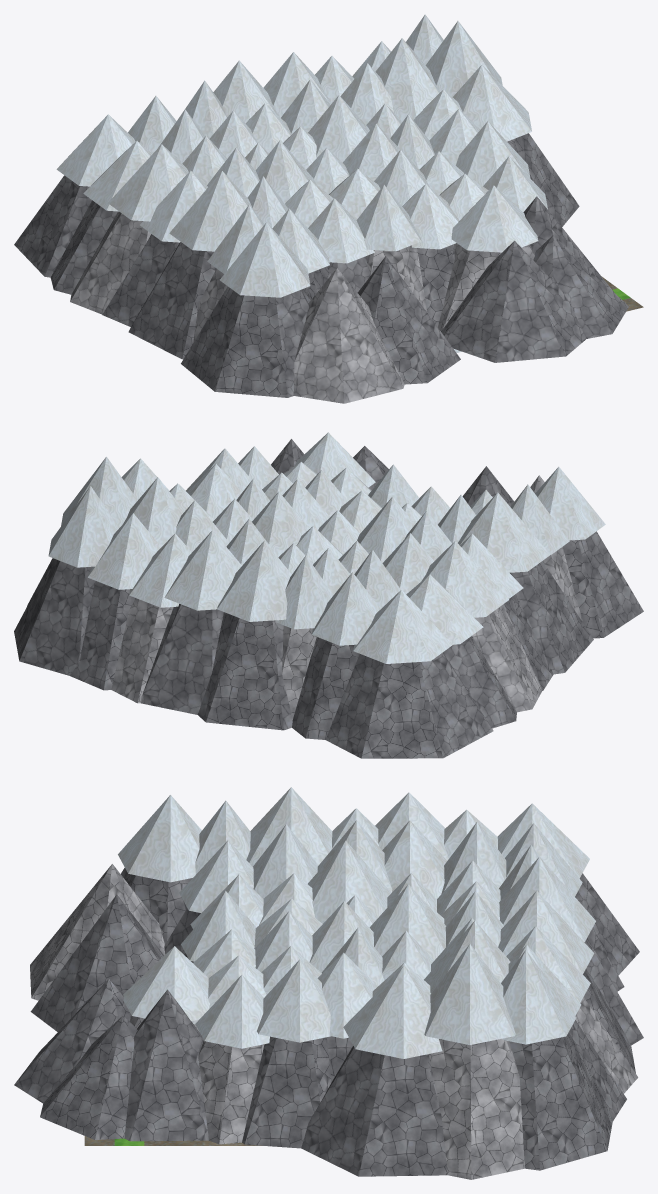
File: chunk_5_0.glb
3 renders of one model, top to bottom at view 1: azimuth 30°, elevation 25°; view 2: azimuth 150°, elevation 25°; view 3: azimuth 270°, elevation 25°, orthographic. The views are drawn at different scales.
Parts seen in each view (by area): view 1: chunk_5_0; view 2: chunk_5_0; view 3: chunk_5_0.
Part boxes in pixels (box(x1,y1,x2,y2)): chunk_5_0: box(14, 14, 643, 403); chunk_5_0: box(14, 432, 643, 758); chunk_5_0: box(14, 787, 643, 1179).
Bounding box in the file's own units: 21.61 × 7.14 × 21.18.
Materials: 6 (6 with a texture image).
